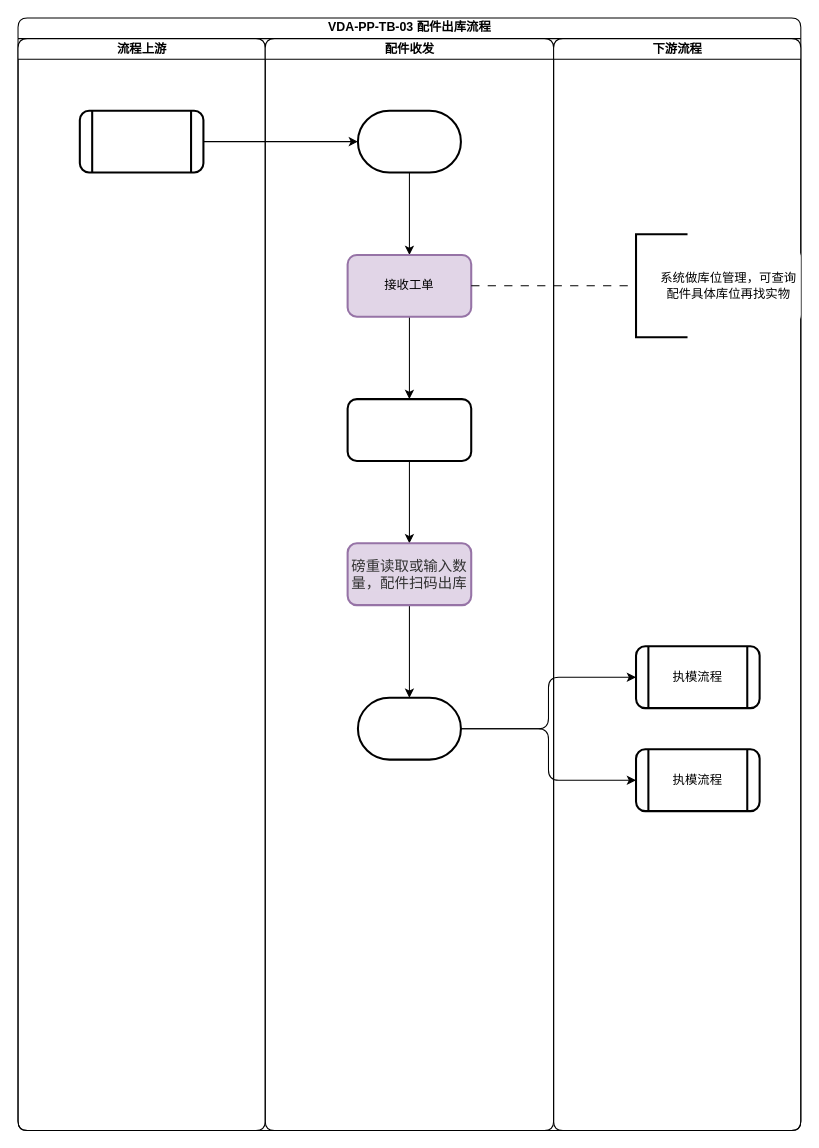
Image size: 819x1148. Some labels were removed from this diagram. Each missing label, with the centre of its shape:
"开始" belongs at [408,141].
"找配件" belongs at [409,429].
"结束" belongs at [408,728].
"量产工单流程" belongs at [141,141].
